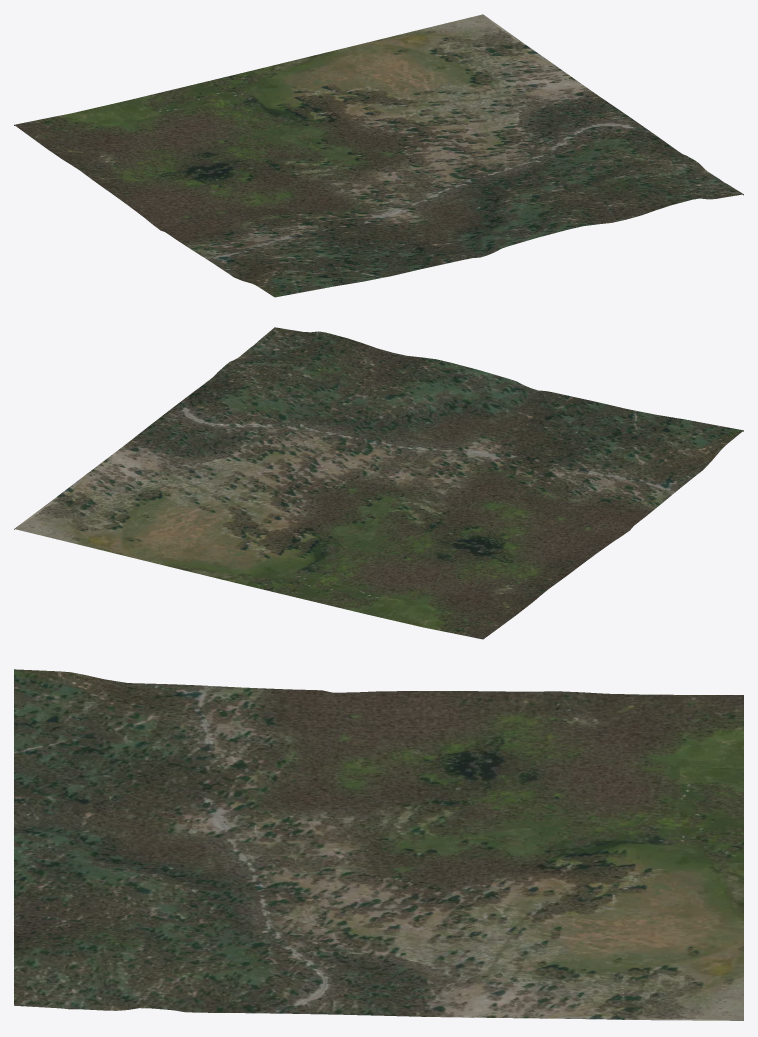
3 renders of one model, top to bottom at view 1: azimuth 30°, elevation 25°; view 2: azimuth 150°, elevation 25°; view 3: azimuth 270°, elevation 25°, orthographic. The views are drawn at different scales.
Bounding box in the file's own units: 1000 × 47.56 × 963.
1 material, 1 textured.
